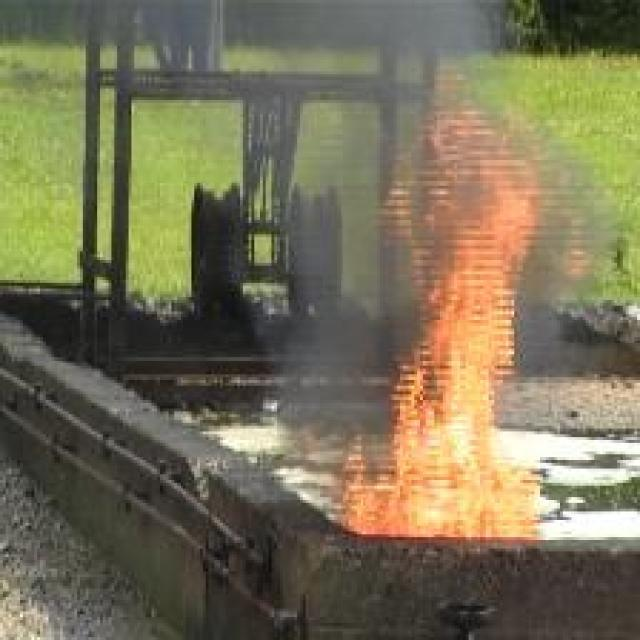Fire: (347, 99, 550, 538)
